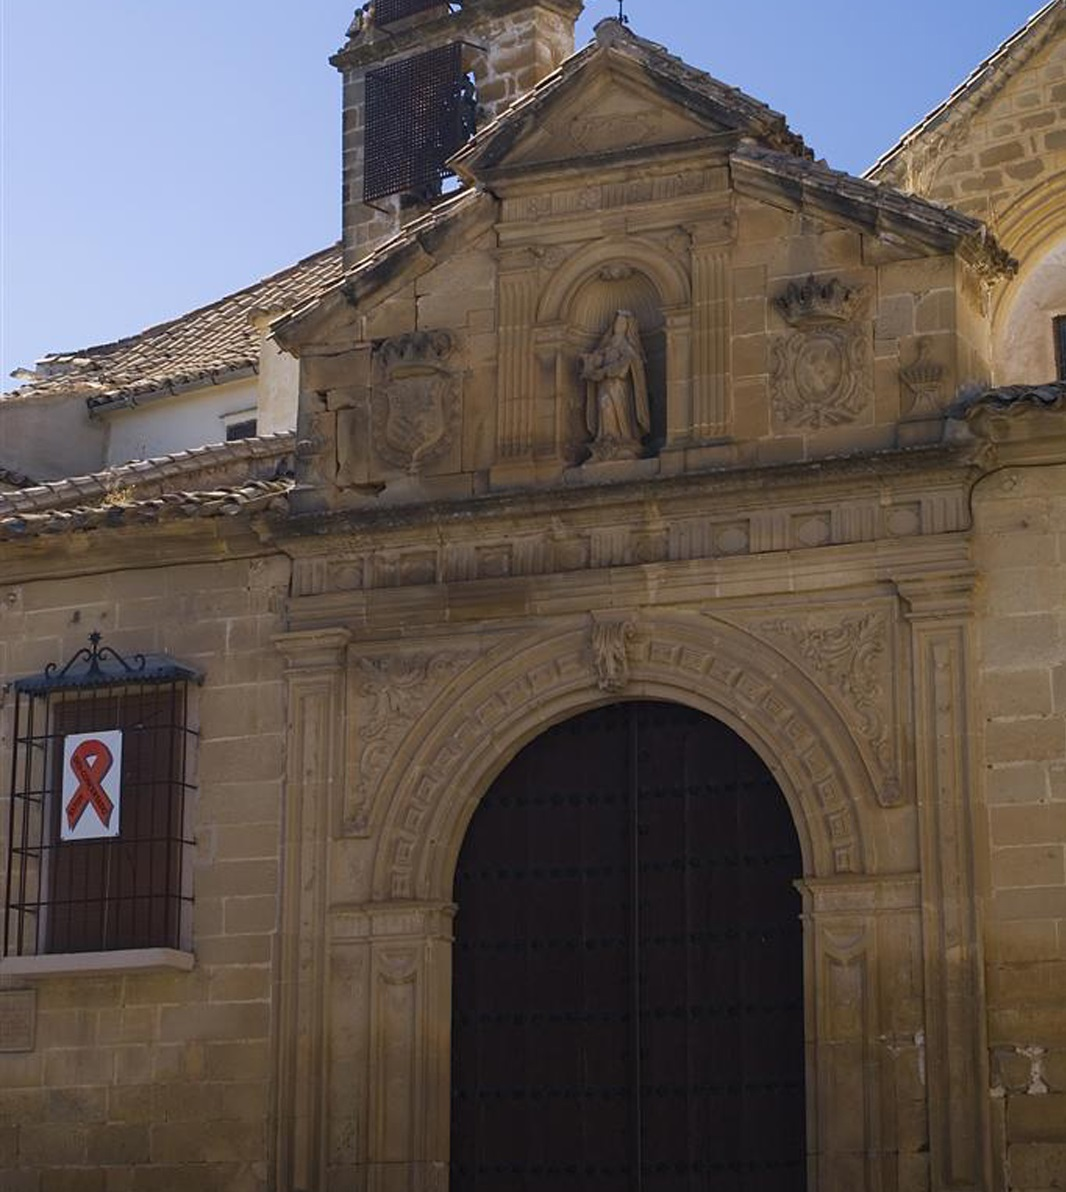arco-medio-punto: (428, 678, 827, 929)
fronton: (461, 38, 755, 187)
